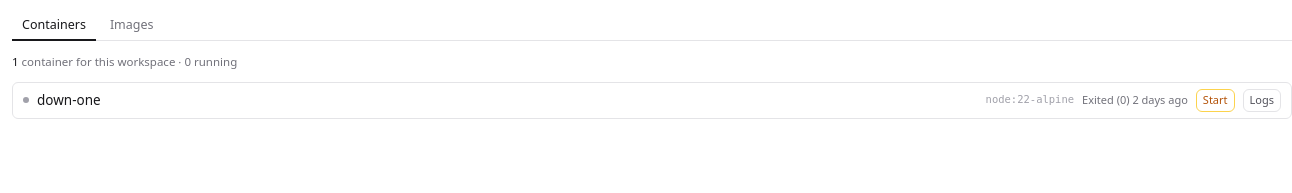
AC-6 — a click asks, it does not act › offers Start for a stopped container, not Stop
The width and height of the screenshot is (1292, 193).
Click the button with test id "docker-act-down-one" at coordinates (1215, 100), box [1196,89,1234,112]
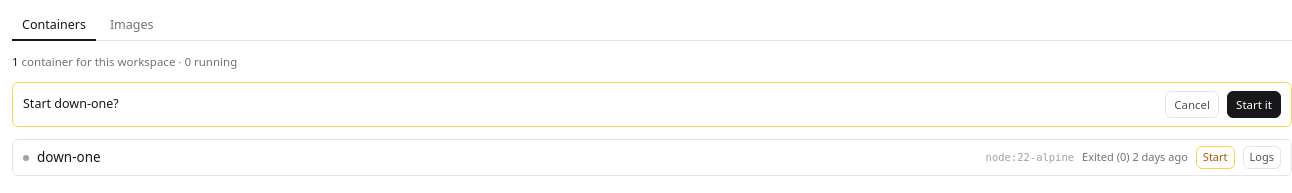
Check: the element with test id "docker-confirm" shows "Start", box [23,95,51,112]
